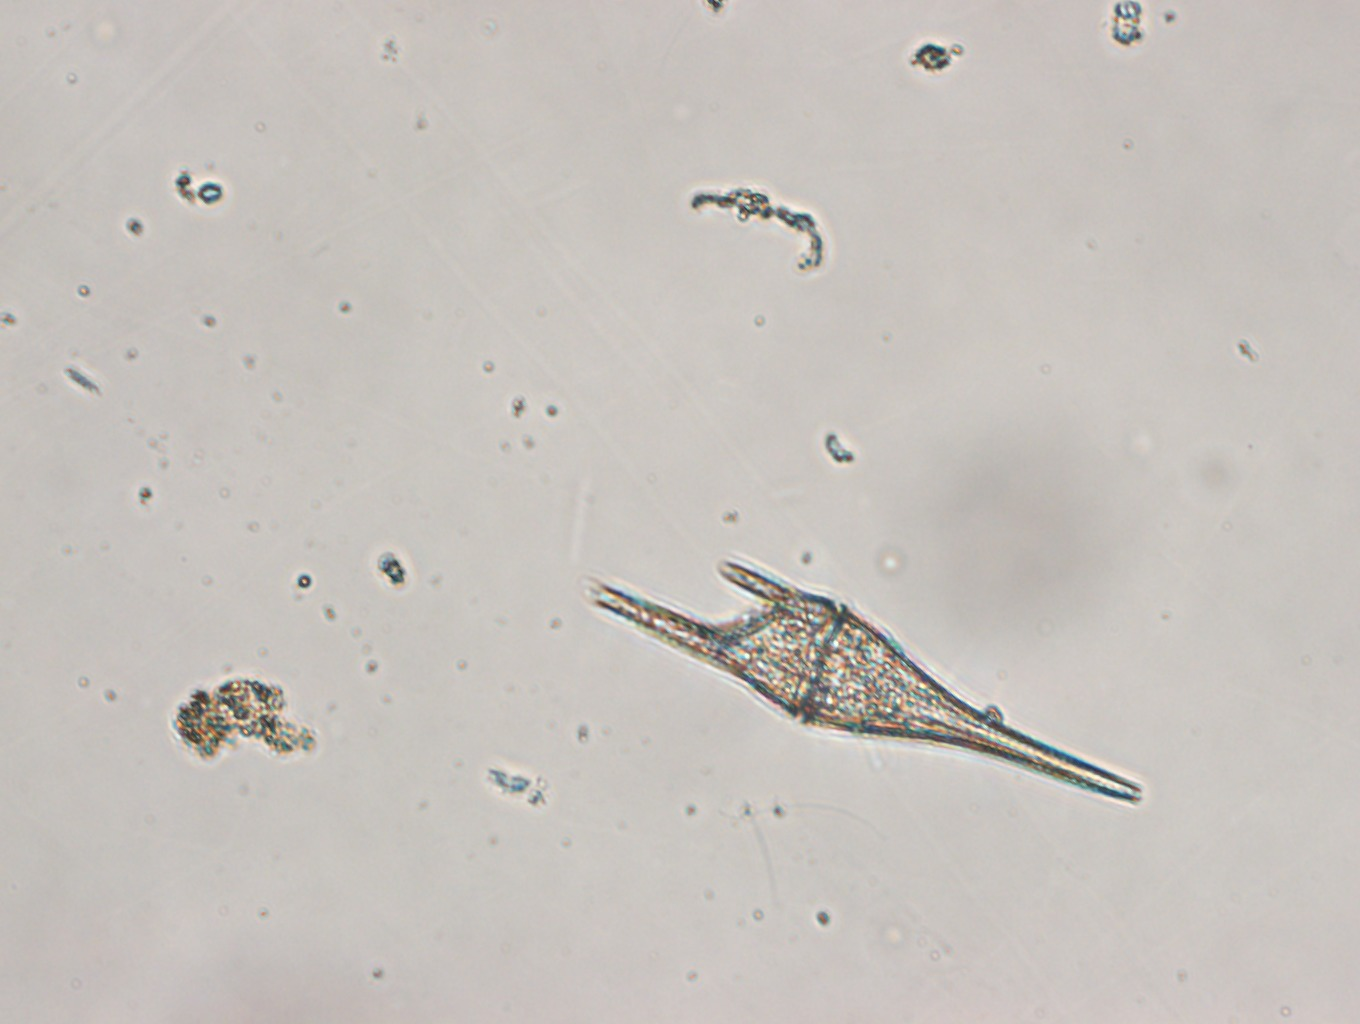ceratium furca: (586, 551, 1149, 806)
